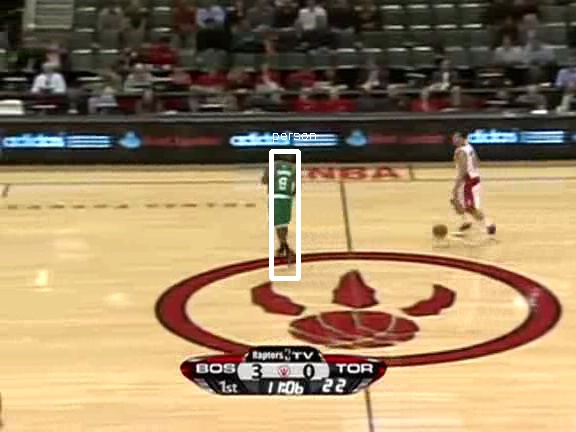person: (266, 154, 300, 235), (265, 154, 299, 235), (267, 154, 301, 235), (266, 153, 300, 234), (266, 155, 300, 236)
target_negative: (222, 123, 478, 250), (50, 213, 235, 382), (315, 191, 453, 368), (9, 191, 137, 261), (78, 363, 129, 428), (277, 413, 438, 414)
